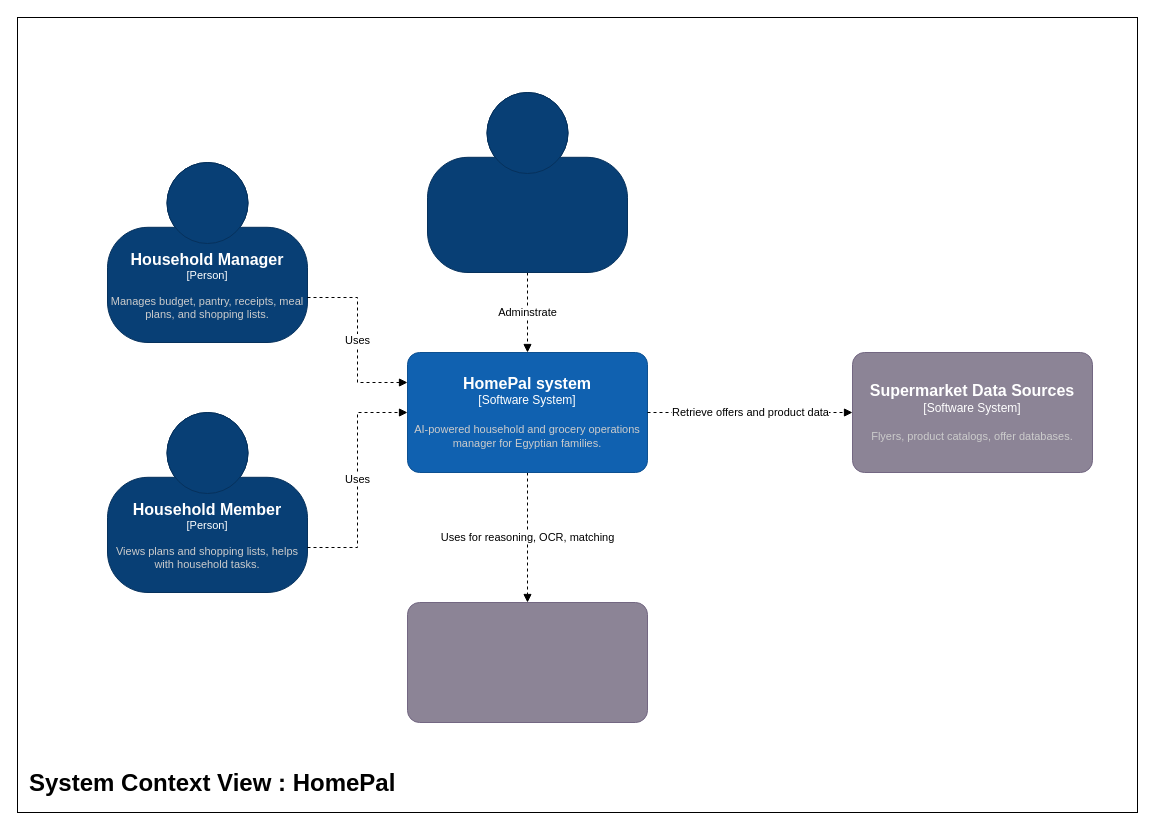
The diagram is 1155 pixels wide and 830 high, and some of its shapes have lost their labels. Here are the shapes that lost their labels. From the top down, the centre of each, then its label:
At (527,182): "Admin [Person] Manages product data, retailer sources, and system monitoring.".
At (527,662): "AI Services [Software System] LLM, Vision, Embeddings".
